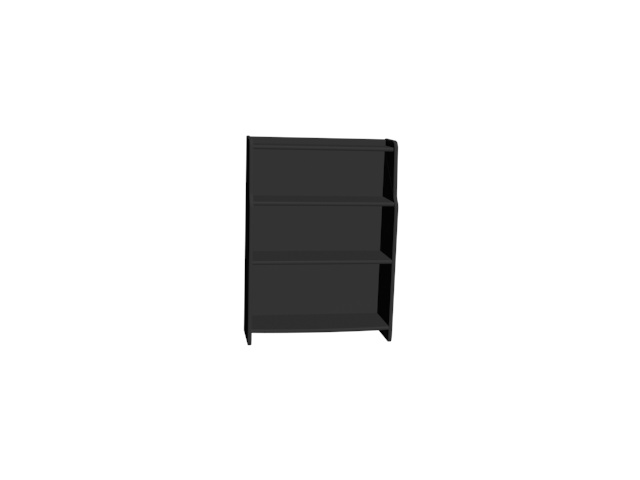bookcase: (241, 129, 400, 352)
